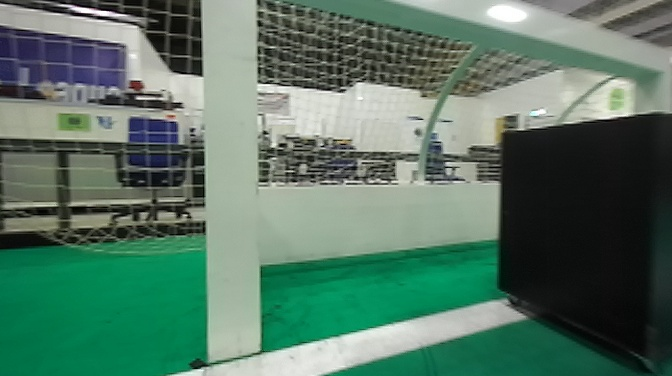goalpost: (198, 2, 261, 362)
